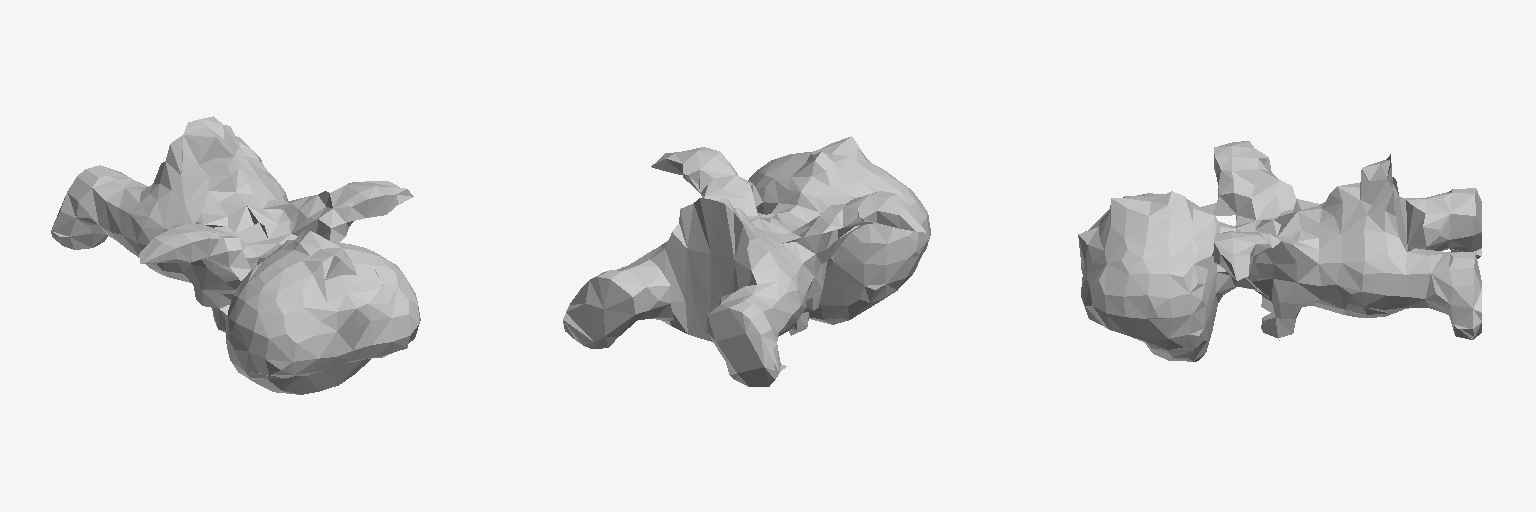
The model's file is 286162-dragon_Clustering_90pct.obj.
3 views of the same model, side by side, from view 1: azimuth 30°, elevation 25°; view 2: azimuth 150°, elevation 25°; view 3: azimuth 270°, elevation 25° (orthographic).
Bounding box in the file's own units: 0.7726 × 0.5203 × 0.9862.